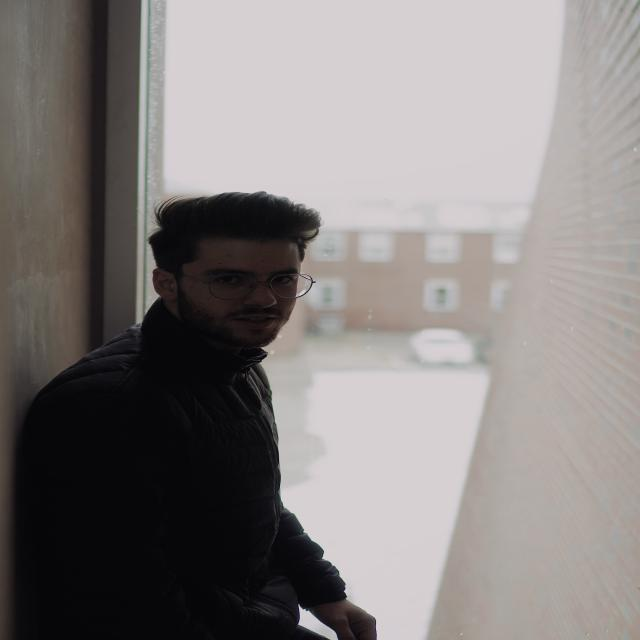adult: (9, 192, 391, 640)
